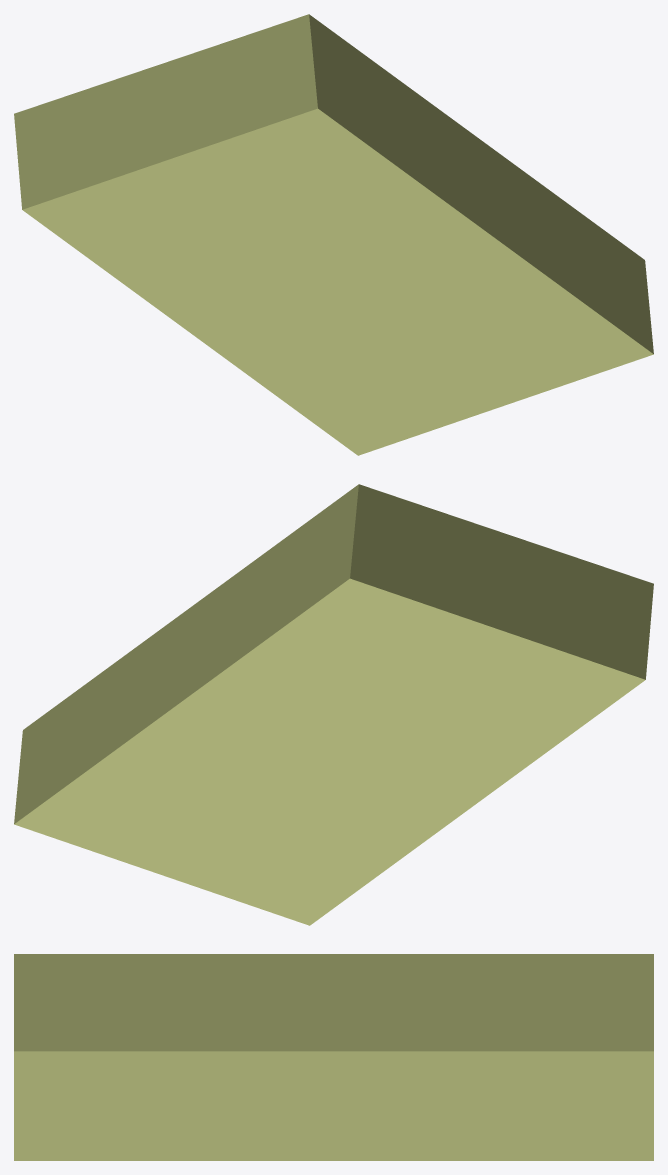
3 renders of one model, top to bottom at view 1: azimuth 30°, elevation 25°; view 2: azimuth 150°, elevation 25°; view 3: azimuth 270°, elevation 25°, orthographic. The views are drawn at different scales.
Parts seen in each view (by area): view 1: 0_2_3_3_3_1_0_2_3_1_3_0; view 2: 0_2_3_3_3_1_0_2_3_1_3_0; view 3: 0_2_3_3_3_1_0_2_3_1_3_0.
Part boxes in pixels (left/top/right/bottom): 0_2_3_3_3_1_0_2_3_1_3_0: left=14, top=14, right=653, bottom=455; 0_2_3_3_3_1_0_2_3_1_3_0: left=14, top=484, right=653, bottom=925; 0_2_3_3_3_1_0_2_3_1_3_0: left=14, top=954, right=653, bottom=1160.
Size of the model in its own units: 4.7 by 1.86 by 9.
